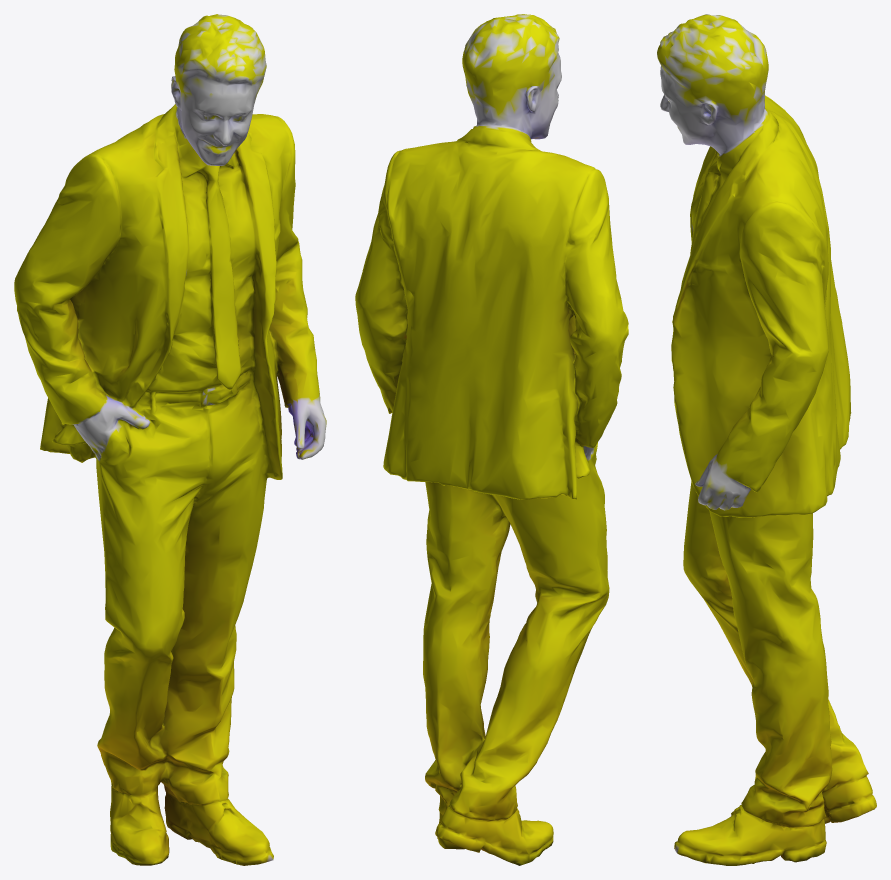
Rendered from dennis.glb.
3 renders of one model, left to right at view 1: azimuth 30°, elevation 25°; view 2: azimuth 150°, elevation 25°; view 3: azimuth 270°, elevation 25°, orthographic. The views are drawn at different scales.
Visible parts, largest first — view 1: person; view 2: person; view 3: person.
Part boxes in pixels (x1=…): person: x1=14, y1=14, x2=326, y2=865; person: x1=355, y1=14, x2=628, y2=865; person: x1=657, y1=14, x2=876, y2=865.
Bounding box in the file's own units: 0.6418 × 1.87 × 0.4499.
